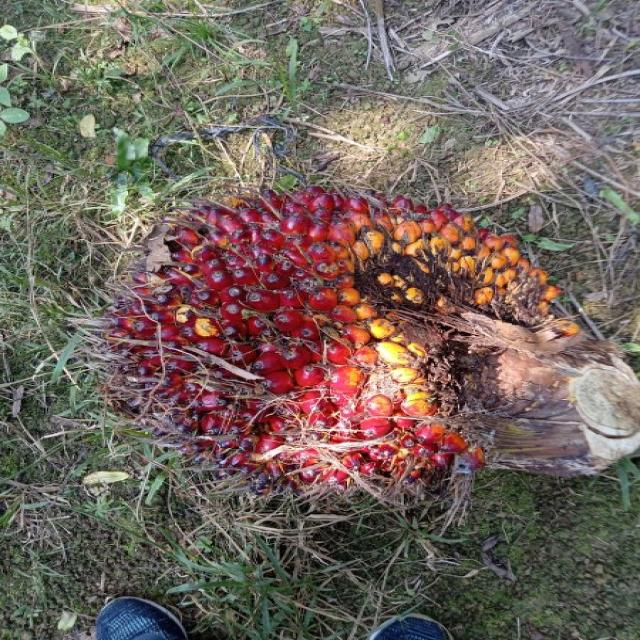fraksi 3: (46, 145, 611, 580)
